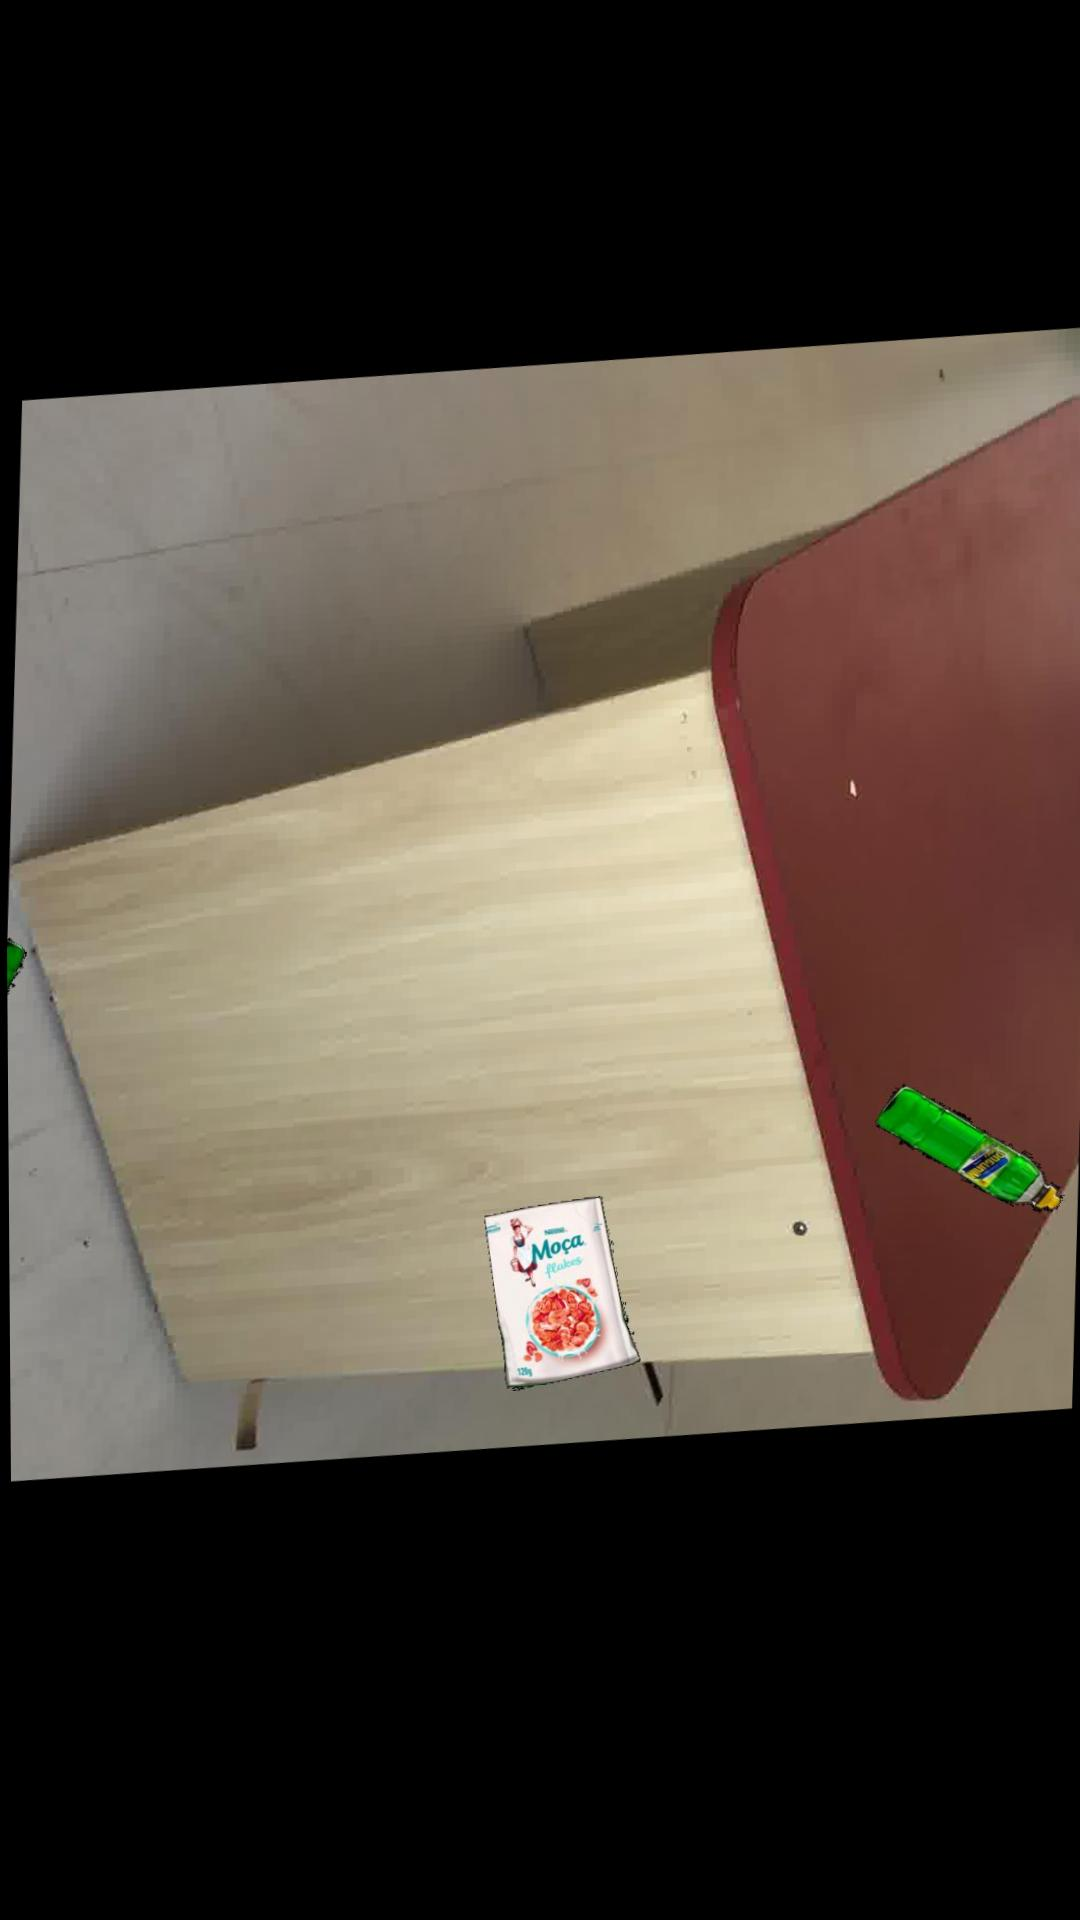cleaner: (876, 1101, 1063, 1233)
corn flakes: (484, 1207, 640, 1399)
